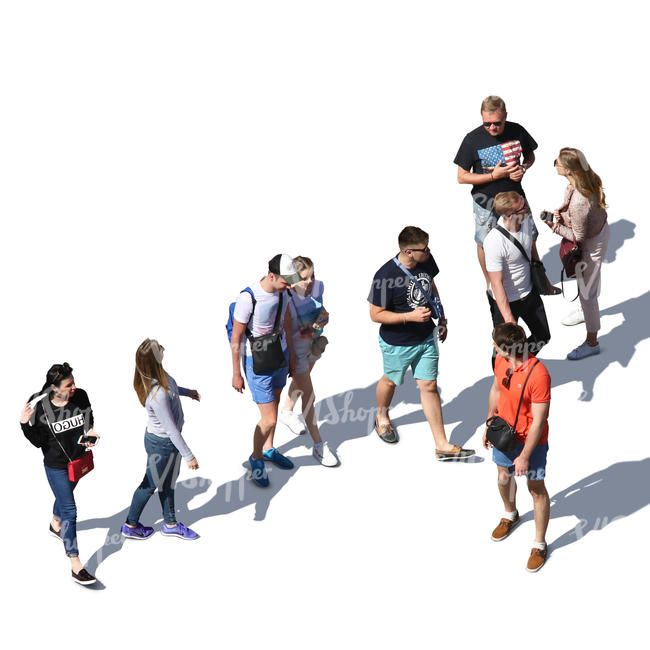person: (367, 220, 474, 464), (452, 93, 562, 303), (20, 359, 111, 592), (120, 337, 212, 544), (481, 324, 551, 574), (225, 248, 296, 490), (542, 146, 611, 362), (283, 255, 342, 468), (487, 192, 553, 379)
